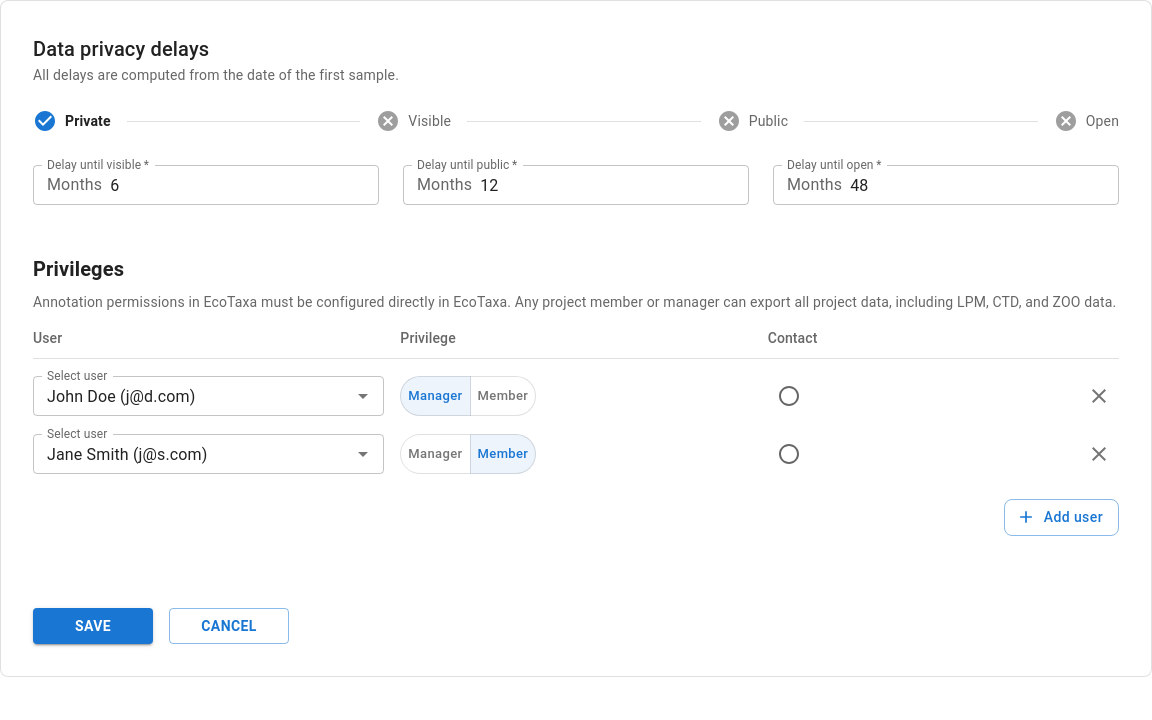
Scenario: ProjectSecurityTab (Functional) › TC-K2: should block submission if no contact is selected
The image size is (1152, 720).
Expected: the number field showing "6" is shown, [110,165,379,205]
Step 1. Click the button "SAVE" → (93, 626), box [33,608,153,644]
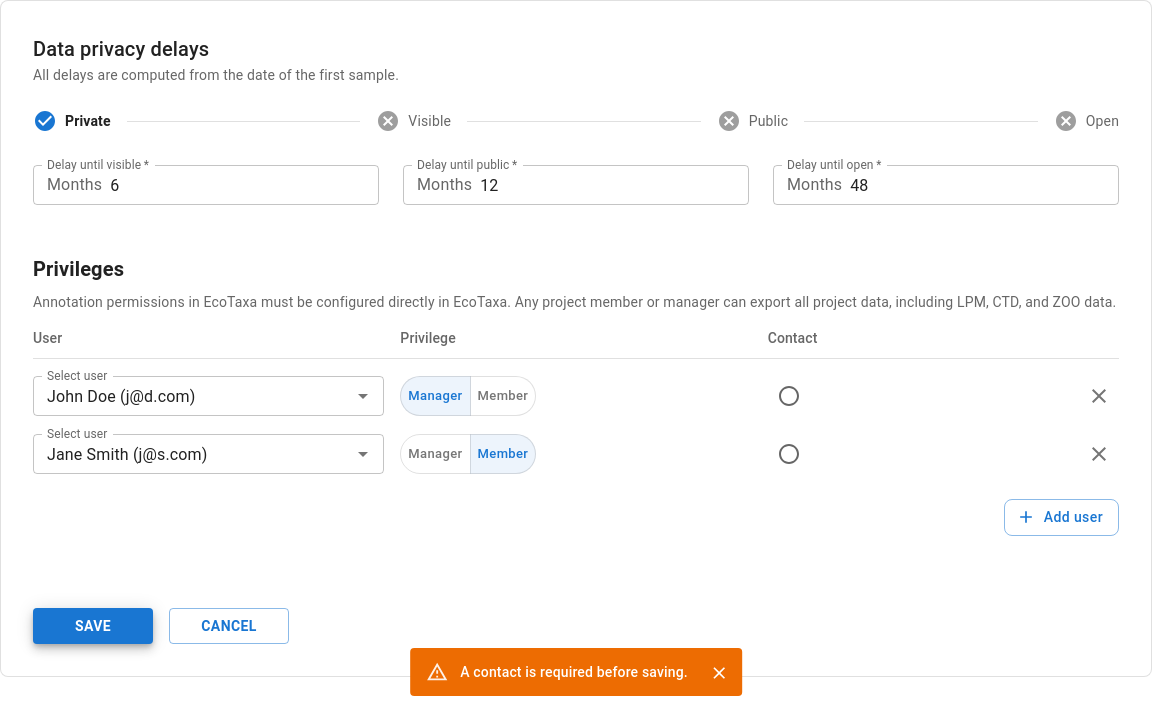
Now the text "A contact is required before saving." is shown, box [460,664,688,680]
